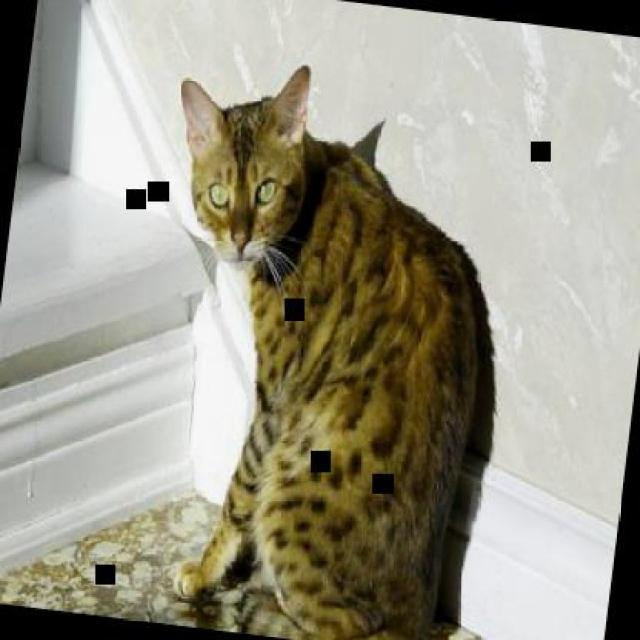cat: (112, 46, 514, 639)
